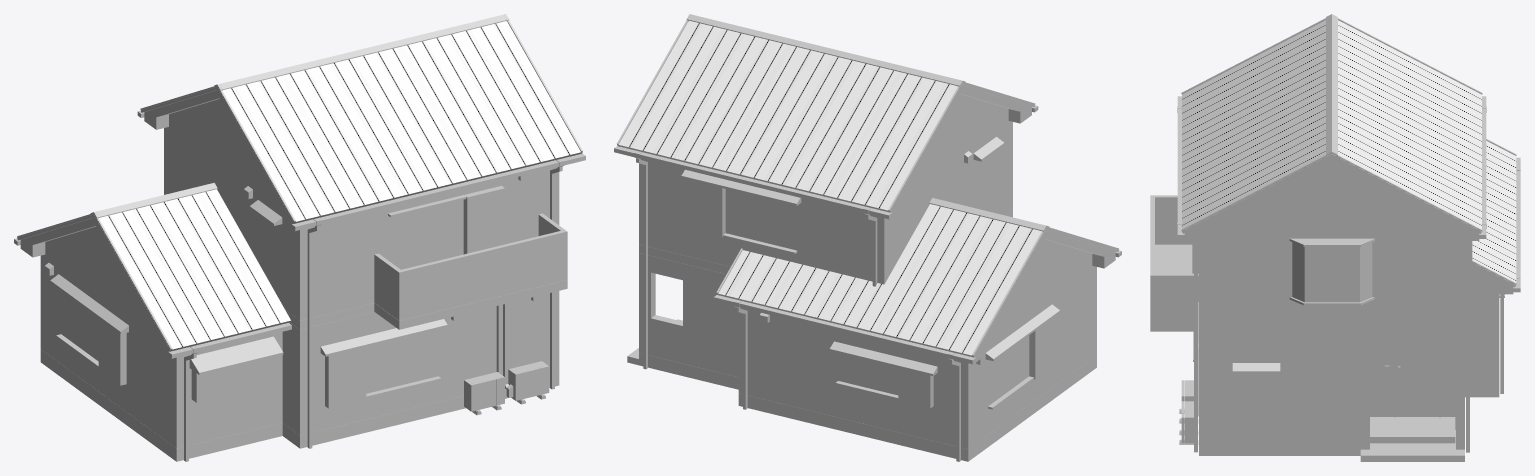
File: House_2021_L.fbx
The picture shows the model from 3 angles, left to right: view 1: azimuth 30°, elevation 25°; view 2: azimuth 150°, elevation 25°; view 3: azimuth 270°, elevation 25°; orthographic projection. The views are drawn at different scales.
Visible parts, largest first — view 1: House_2021_L; view 2: House_2021_L; view 3: House_2021_L.
Boxes of the visible parts, <box> form: House_2021_L: <box>14,14,585,461</box>; House_2021_L: <box>614,14,1121,461</box>; House_2021_L: <box>1150,14,1520,461</box>.
Bounding box in the file's own units: 942 × 722 × 780.
